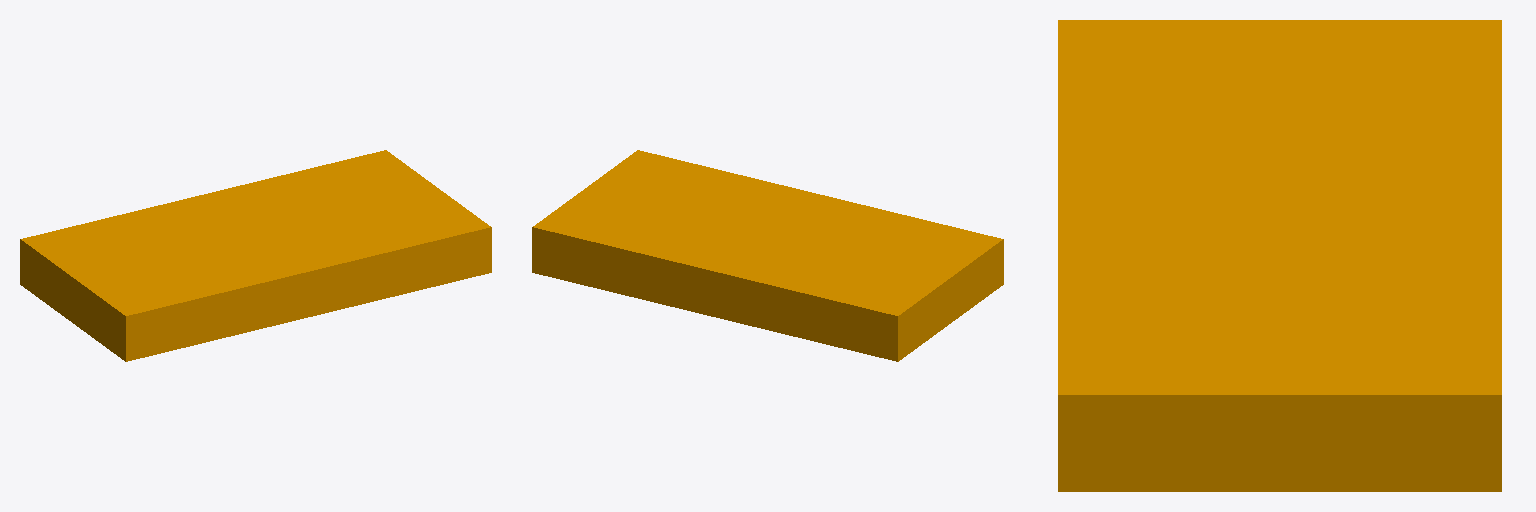
robot.urdf — surface:
<?xml version="1.0"?>
<robot name="surface">
  <link name="base_link">

    <collision>
      <geometry>
        <box size="8.37 4.18 1"/>
      </geometry>
    </collision>

    <inertial>
      <mass value="50"/>
    	<inertia ixx="108" ixy="0" ixz="0" iyy="421" iyz="0" izz="521"/>
  	</inertial>

    <visual>
      <geometry>
        <box size="8.37 4.18 1"/>
      </geometry>
    </visual>

  </link>
</robot>

--- Render facts (derived) ---
The picture shows the robot from 3 angles, left to right: view 1: azimuth 30°, elevation 25°; view 2: azimuth 150°, elevation 25°; view 3: azimuth 270°, elevation 25°; orthographic projection.
Robot: surface — 1 links, 0 joints (none); root link base_link; default pose: every joint at zero.
Links seen in each view (by area): view 1: base_link; view 2: base_link; view 3: base_link.
Boxes of the visible links, x1,y1,x2,y2 form: base_link: (20,150,491,361); base_link: (532,150,1003,361); base_link: (1058,20,1501,491).
Size in the robot's own frame: 8.37 by 4.18 by 1 metres.
Geometry: primitives only (box / cylinder / sphere), no mesh files.